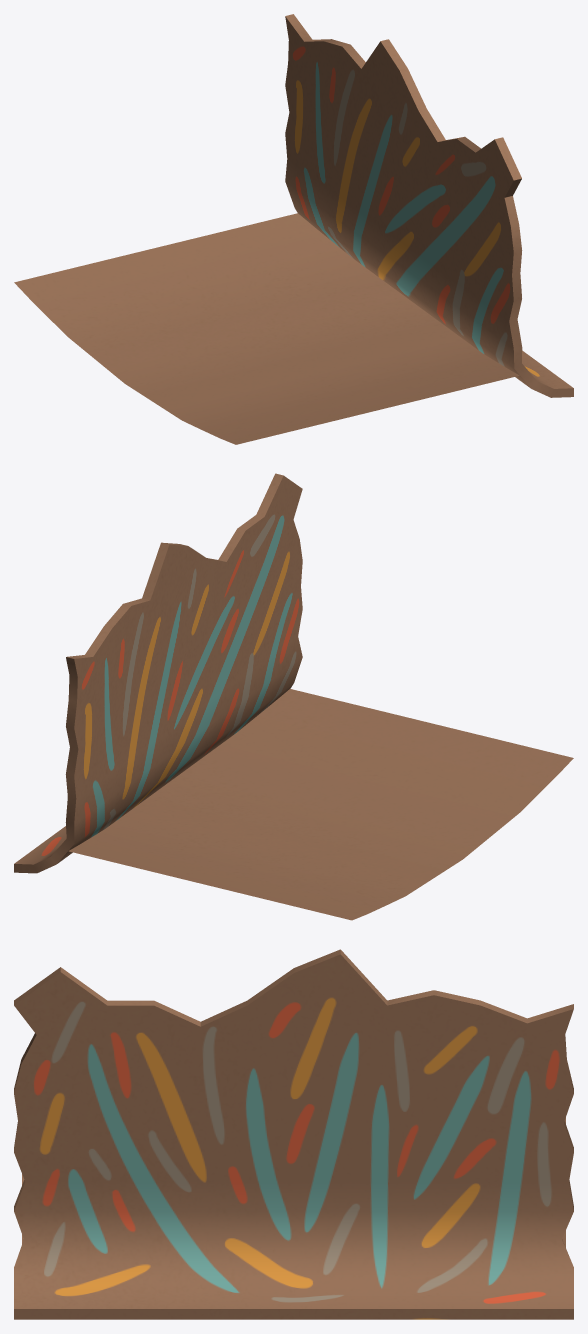
File: Peeling Metal Wall level 2.fbx
3 views of the same model, one above another, from view 1: azimuth 30°, elevation 25°; view 2: azimuth 150°, elevation 25°; view 3: azimuth 270°, elevation 25° (orthographic). The views are drawn at different scales.
Visible parts, largest first — view 1: PeelStain(PNG), PeelingMetalPart; view 2: PeelStain(PNG), PeelingMetalPart; view 3: PeelingMetalPart.
Part boxes in pixels (bbox=[...]): PeelStain(PNG): bbox=[14, 213, 519, 444]; PeelingMetalPart: bbox=[285, 14, 573, 397]; PeelStain(PNG): bbox=[68, 689, 573, 920]; PeelingMetalPart: bbox=[14, 473, 302, 873]; PeelingMetalPart: bbox=[14, 949, 573, 1319].
Bounding box in the file's own units: 7.61 × 5.93 × 9.
Materials: 2 (2 with a texture image).
